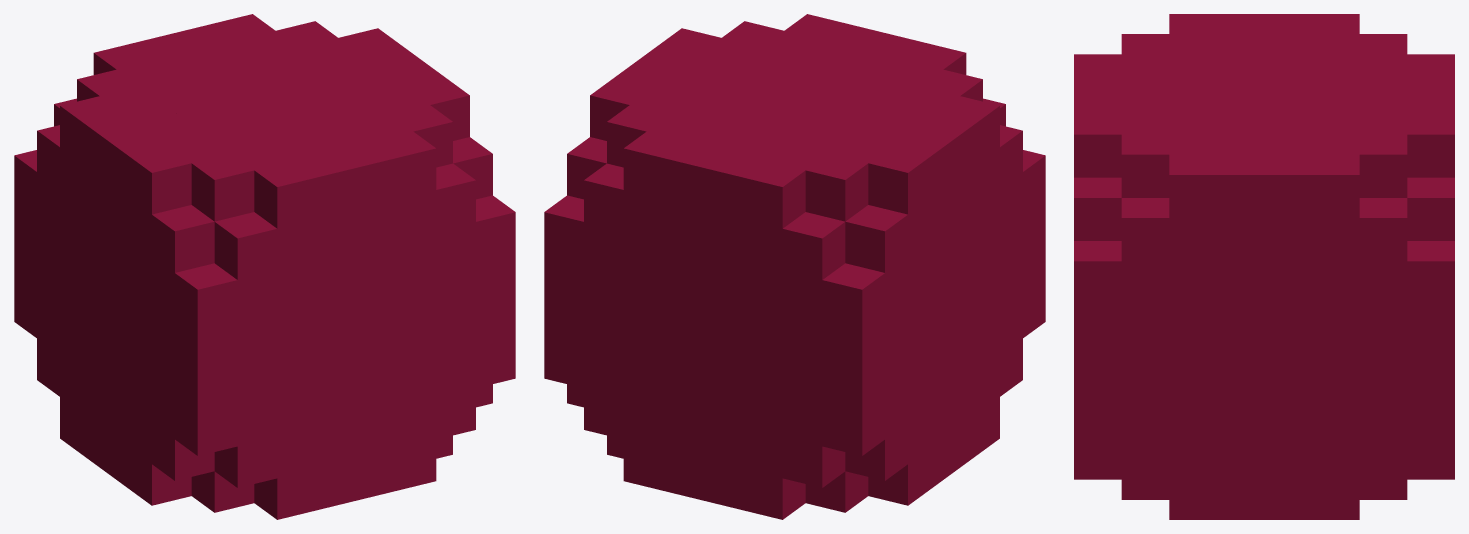
File: red-leaves-block.obj
The picture shows the model from 3 angles, left to right: view 1: azimuth 30°, elevation 25°; view 2: azimuth 150°, elevation 25°; view 3: azimuth 270°, elevation 25°; orthographic projection. The views are drawn at different scales.
Bounding box in the file's own units: 8 × 8 × 8.
Materials: 1 (1 with a texture image).
